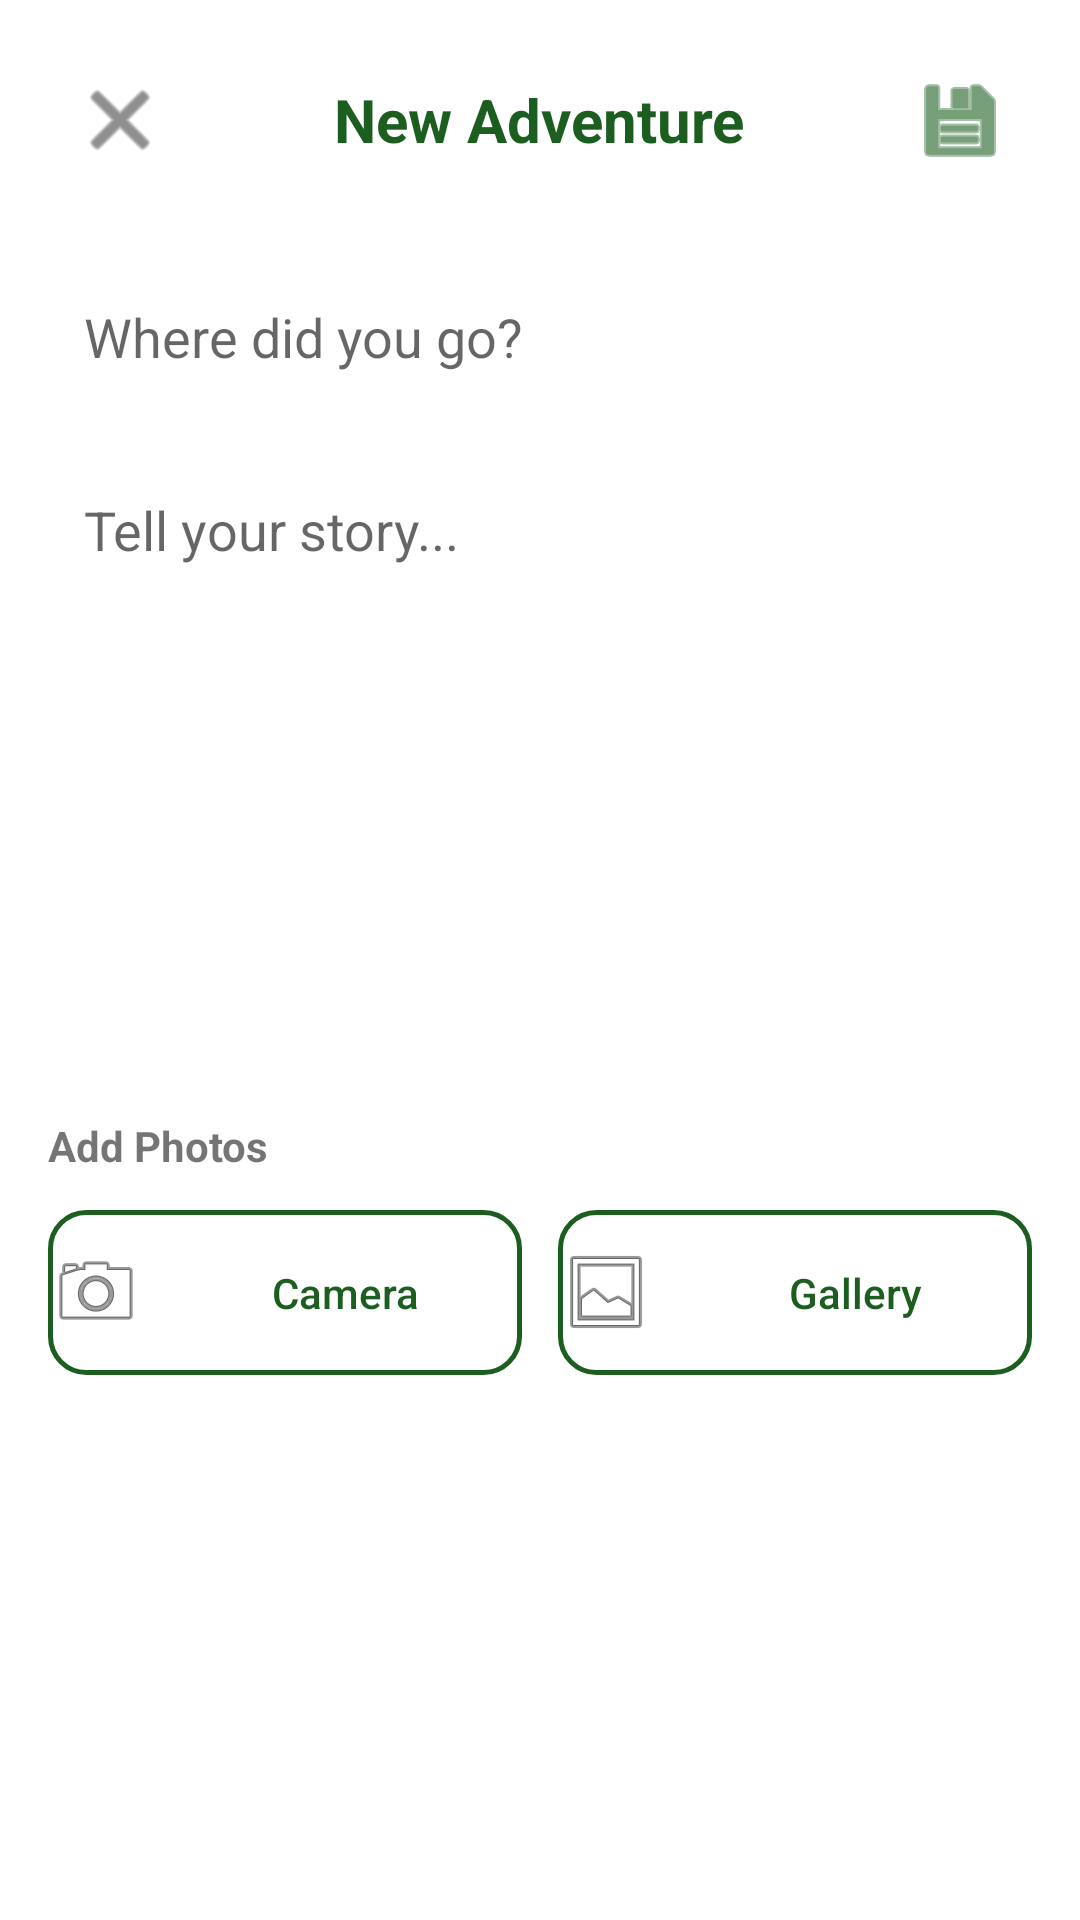

Point at icon controls on the screen. Image size 1080*1920, points as [x,y].
close clear cancel: [120,120]
save: [960,120]
